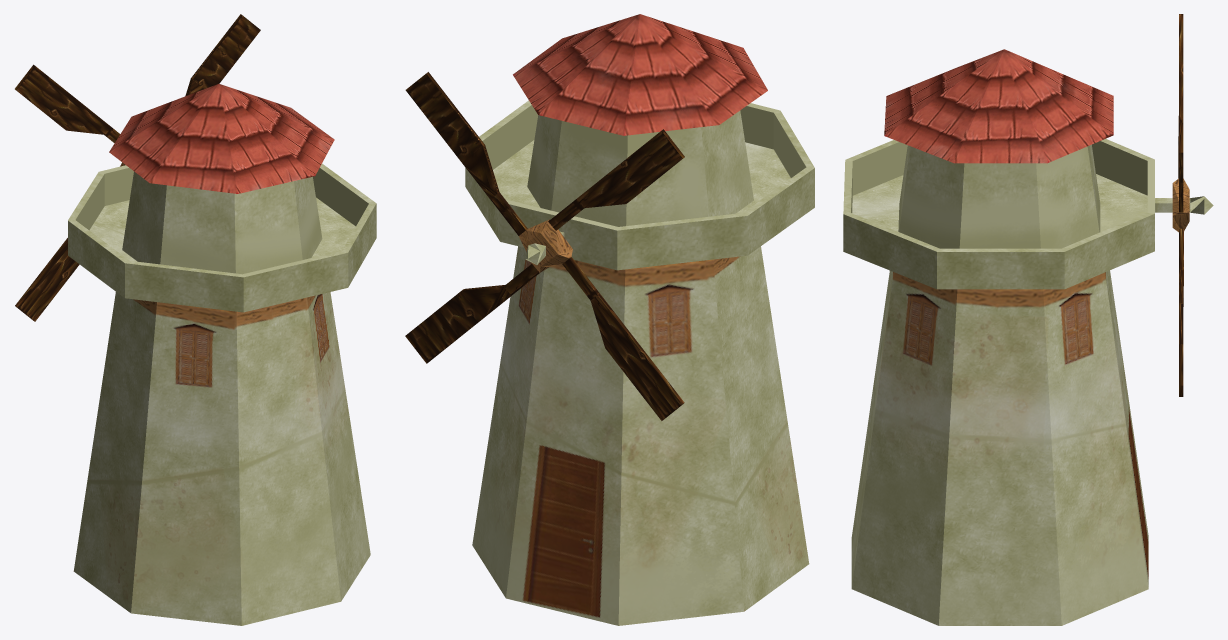
Rendered from turbine1.fbx.
The picture shows the model from 3 angles, left to right: view 1: azimuth 30°, elevation 25°; view 2: azimuth 150°, elevation 25°; view 3: azimuth 270°, elevation 25°; orthographic projection. The views are drawn at different scales.
Visible parts, largest first — view 1: polySurface2, polySurface14; view 2: polySurface2, polySurface14; view 3: polySurface2, polySurface14.
Part boxes in pixels (box(x1,y1,x2,y2)): polySurface2: box(68, 84, 376, 625); polySurface14: box(15, 14, 260, 321); polySurface2: box(465, 14, 814, 625); polySurface14: box(405, 72, 684, 420); polySurface2: box(843, 49, 1213, 625); polySurface14: box(1172, 14, 1189, 396).
Bounding box in the file's own units: 5.46 × 9.99 × 6.53.
